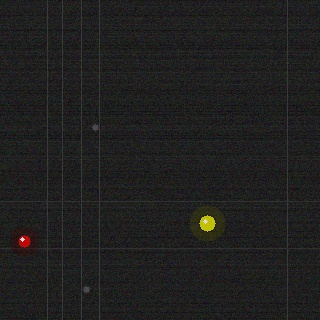red_fault: (16, 233, 32, 249)
yellow_warning: (197, 213, 217, 233)
